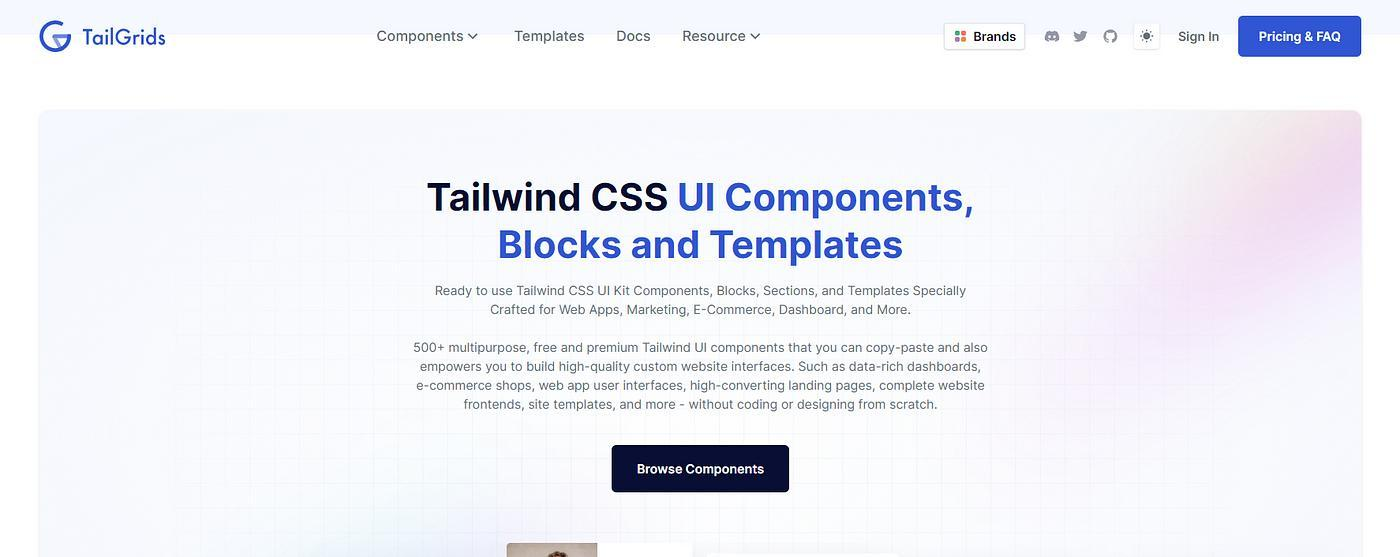button: (612, 445, 791, 495), (1237, 16, 1362, 58), (943, 22, 1028, 53), (1133, 23, 1163, 52)
icon: (1042, 28, 1064, 47), (1101, 28, 1121, 46), (1072, 27, 1090, 45)
label: (370, 26, 468, 48), (515, 29, 587, 45), (680, 29, 751, 45), (1175, 28, 1223, 48), (618, 31, 655, 45)
